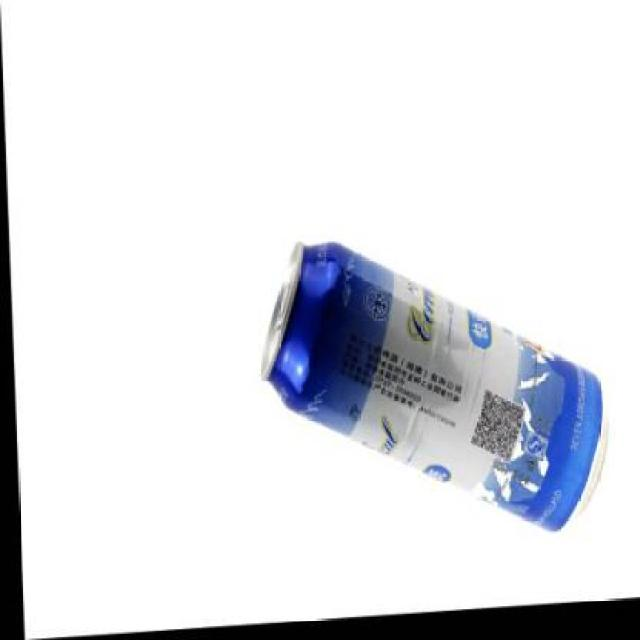Metal: (260, 237, 614, 537)
